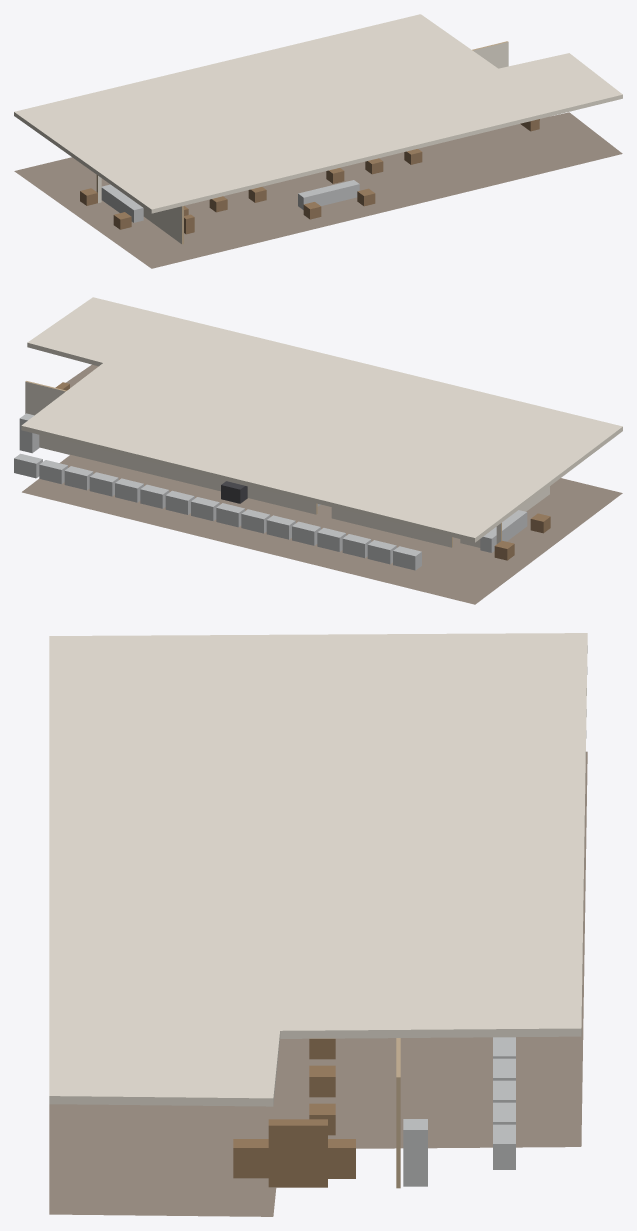
Rendered from interior.glb.
The picture shows the model from 3 angles, top to bottom: view 1: azimuth 30°, elevation 25°; view 2: azimuth 150°, elevation 25°; view 3: azimuth 270°, elevation 25°; orthographic projection. The views are drawn at different scales.
Parts seen in each view (by area): view 1: slabs, coarse-s0, partitions; view 2: slabs, coarse-s0, partitions; view 3: slabs, coarse-s0.
Part boxes in pixels (<box>): slabs: <box>14,14,622,268</box>; coarse-s0: <box>80,119,539,234</box>; partitions: <box>96,41,508,244</box>; slabs: <box>21,297,622,604</box>; coarse-s0: <box>14,382,550,570</box>; partitions: <box>25,381,549,547</box>; slabs: <box>49,633,587,1216</box>; coarse-s0: <box>233,1037,515,1187</box>.
Size of the model in its own units: 31.83 by 3.8 by 15.56.
